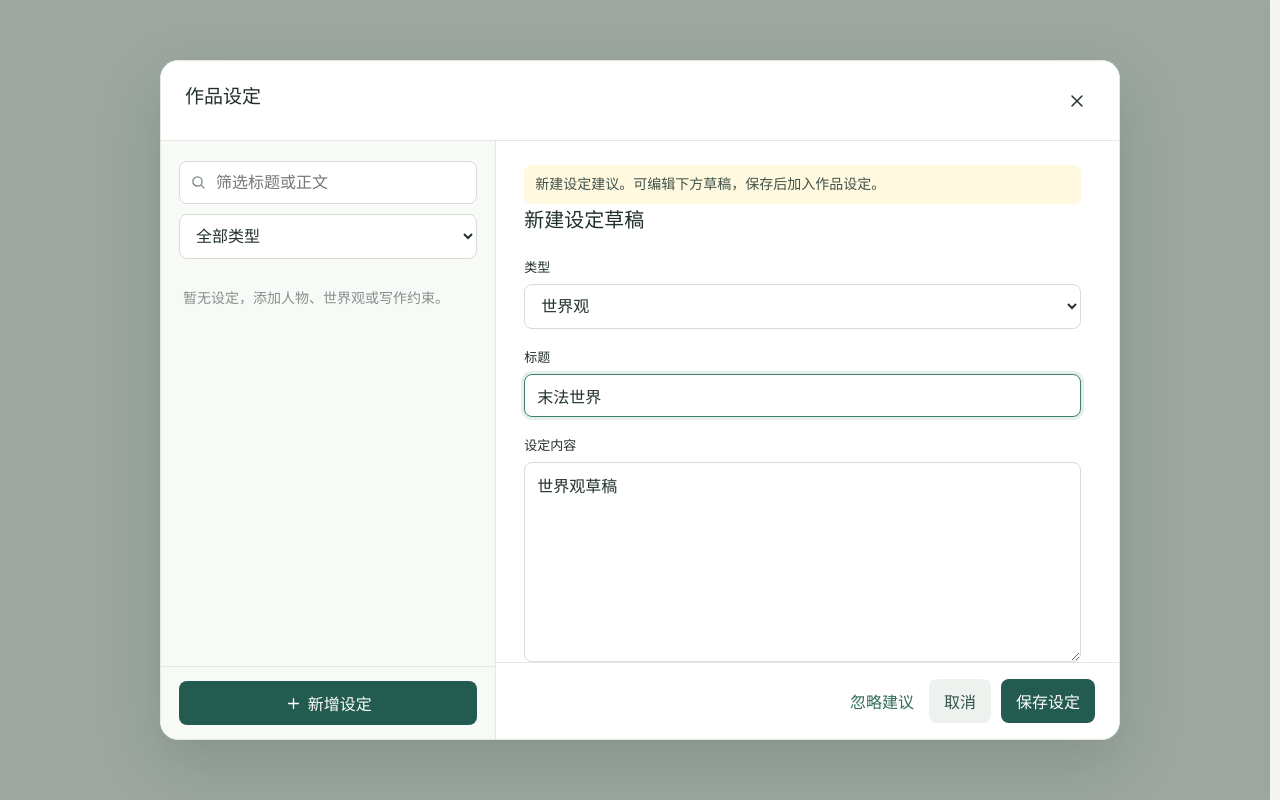
Scenario: a CREATE proposal opens without fetching a missing target and saves reviewed new content
expect the heading "新建设定草稿" is shown: met, box [524,207,644,233]
Replace the text in the text box labelled "设定内容" with "作者审阅后的世界观" at (803, 562), box [524,462,1081,662]
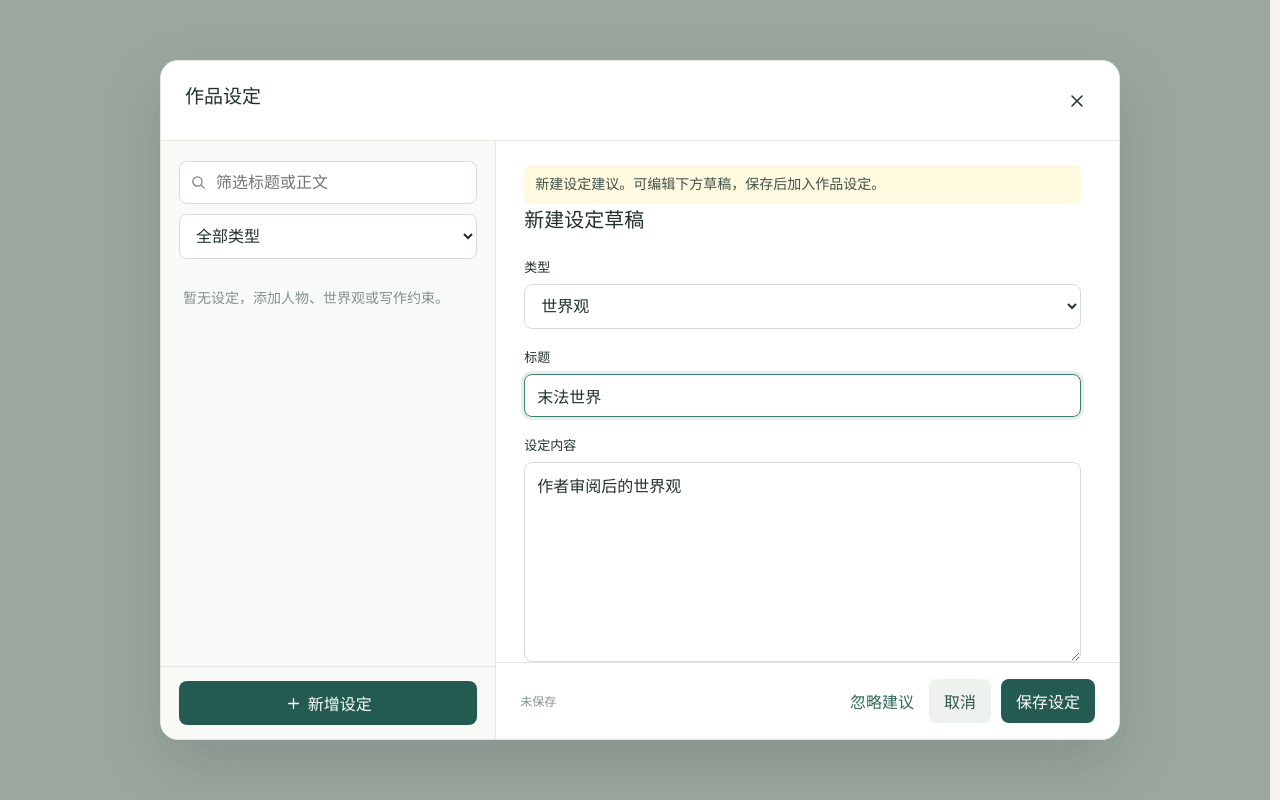
Click the button "保存设定".
click(1048, 701)  # box [1001,679,1095,723]
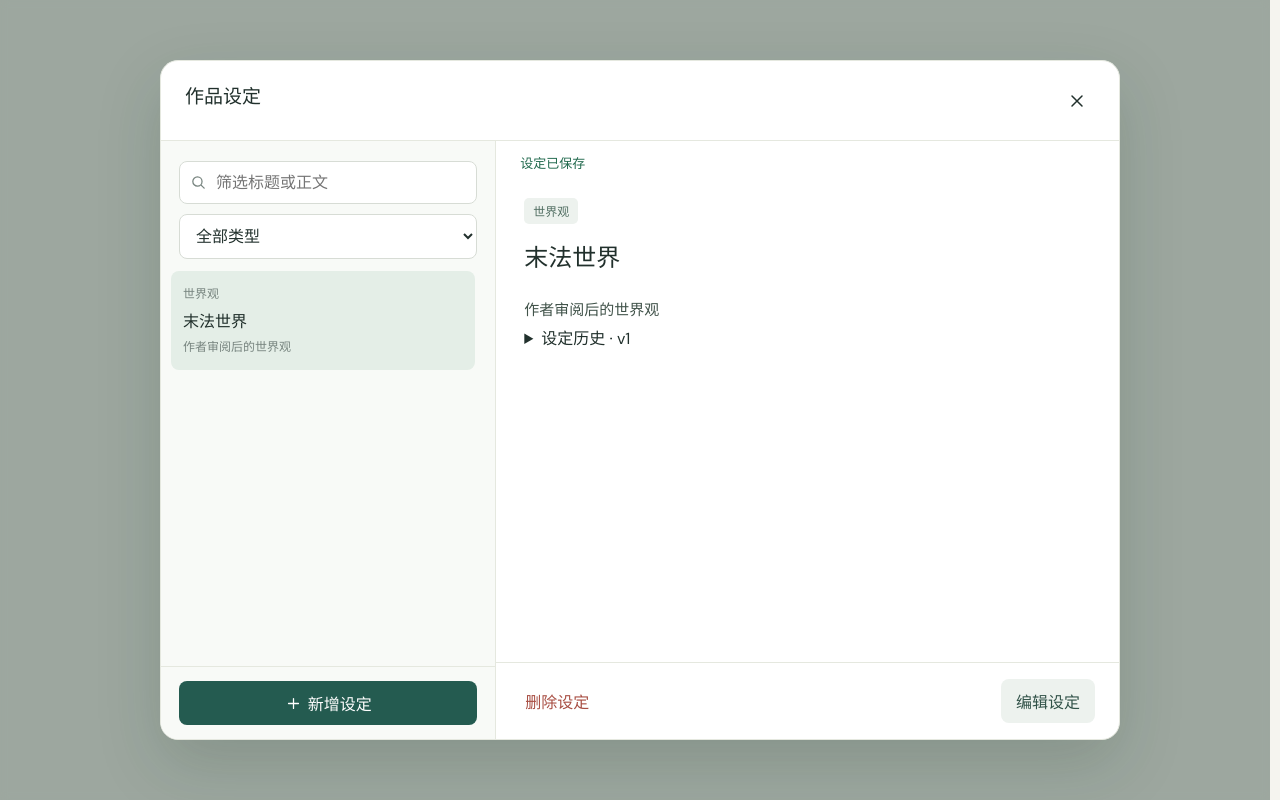
expect the heading "末法世界" is shown: met, box [524,245,620,271]
